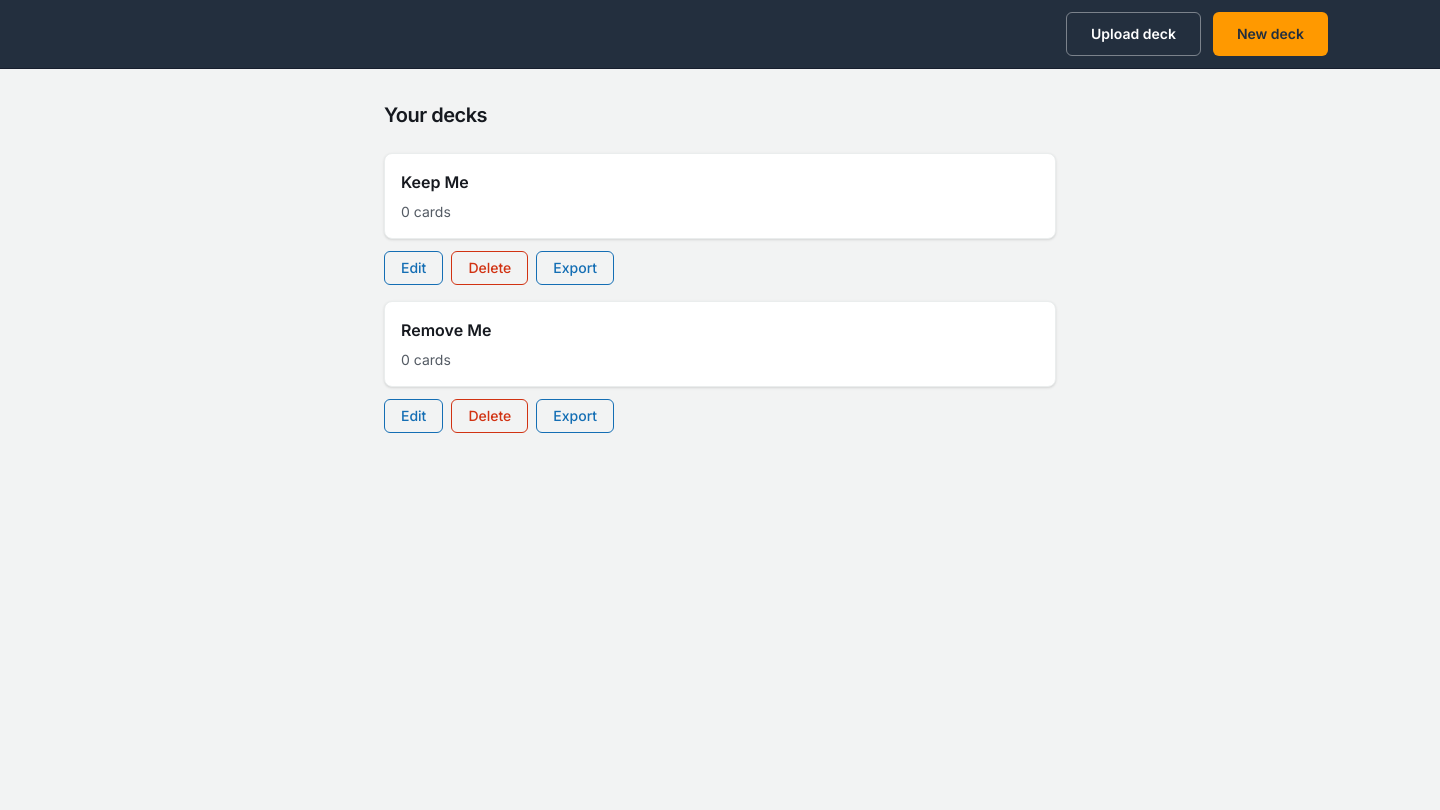
Test: Dashboard wiring — deleted deck no longer renders (3.4) › removes the deck from the listing after confirming deletion
The image size is (1440, 810).
Expected: the heading "Remove Me" is shown, [401,320,491,340]
# Open the delete confirmation for "Remove Me".
What coordinates should you click on to do the following:
click the button with aria-label "delete remove me"
I would click on:
 (490, 416)
Its box is [451,399,528,433].
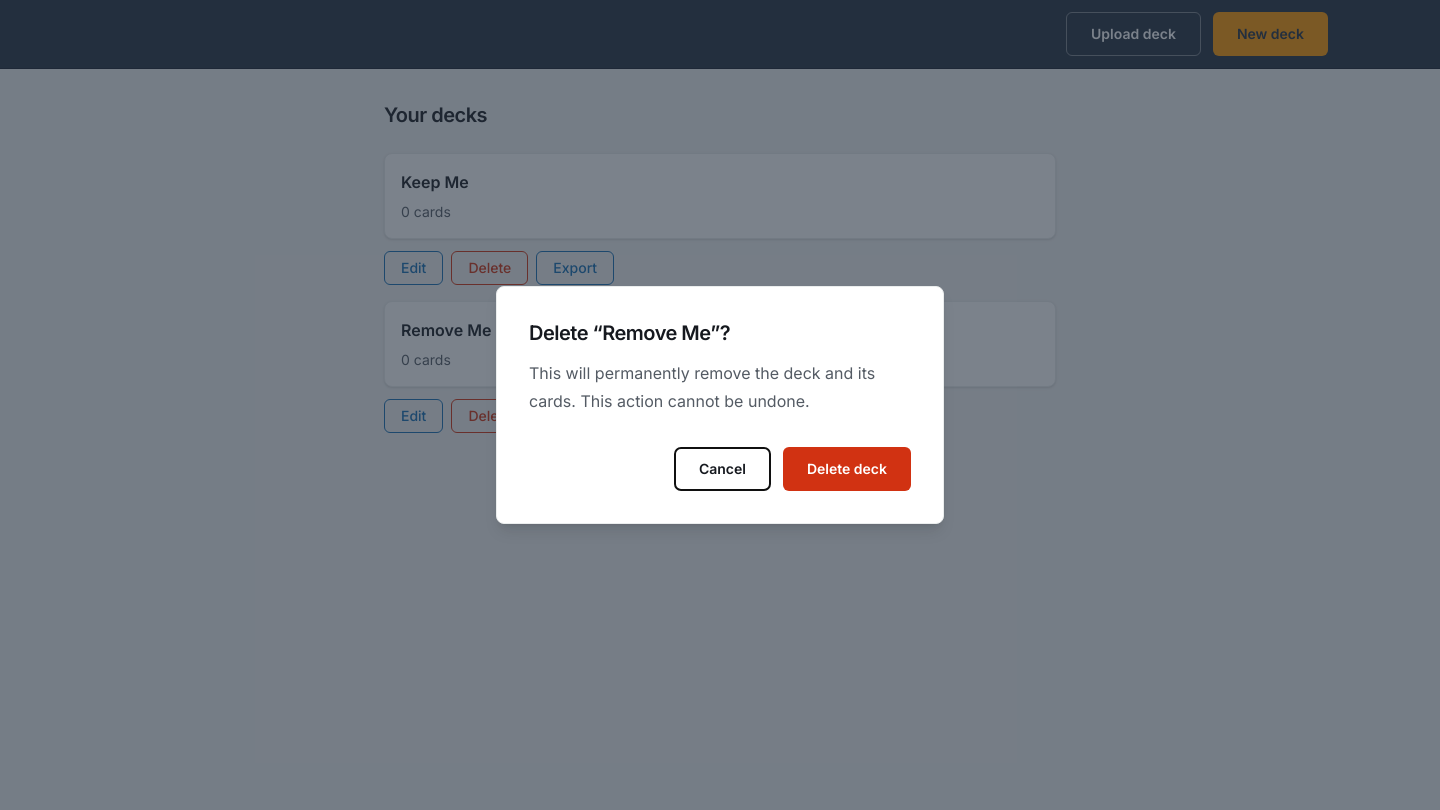
Expected: the heading "Delete “Remove Me”?" is shown, [529,321,730,345]
# Confirm the deletion.
What coordinates should you click on to do the following:
click the button "Delete deck"
I would click on:
 (847, 469)
Its box is [783,447,911,491].
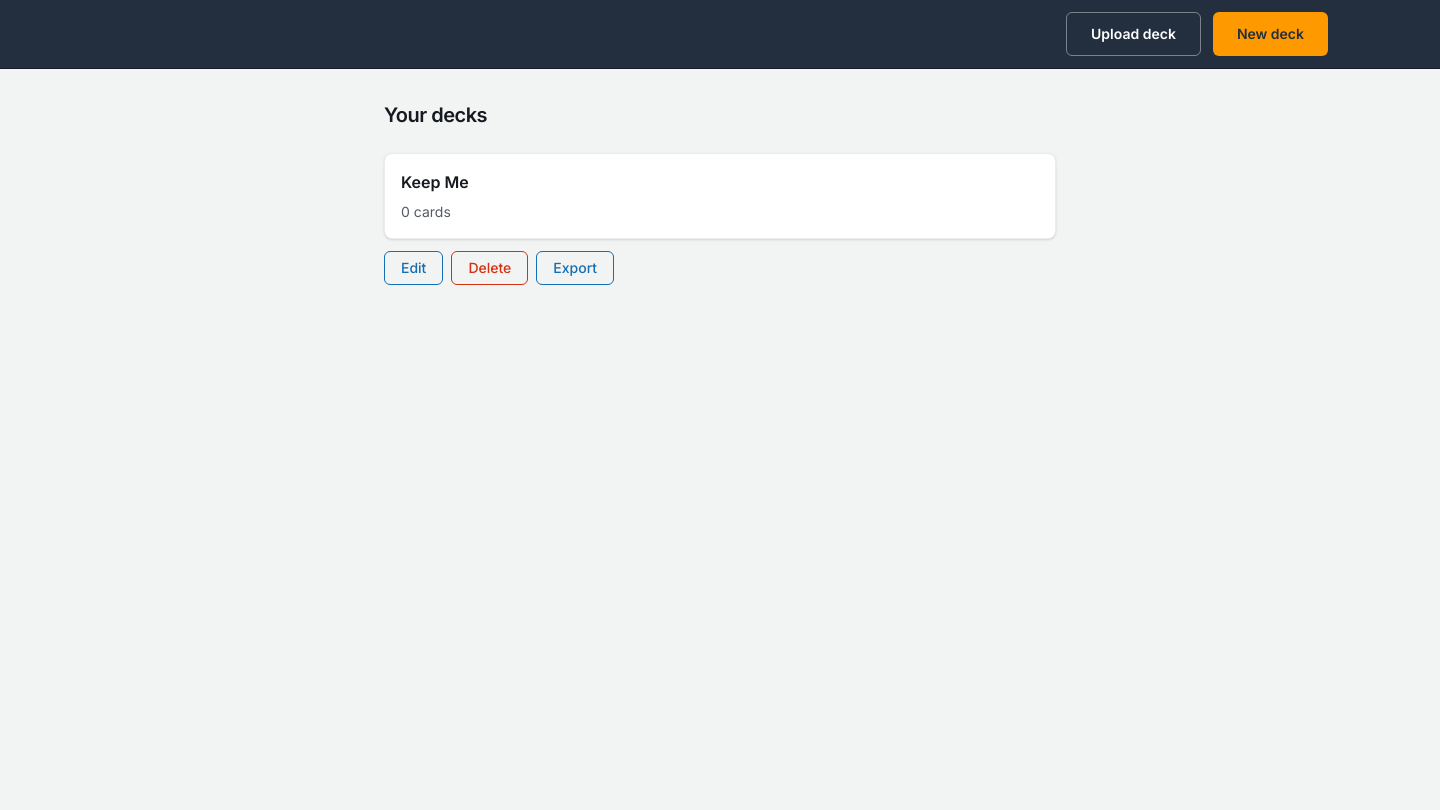
Expected: the heading "Keep Me" is shown, [401,172,469,192]
Expected: the link "Remove Me" is gone
